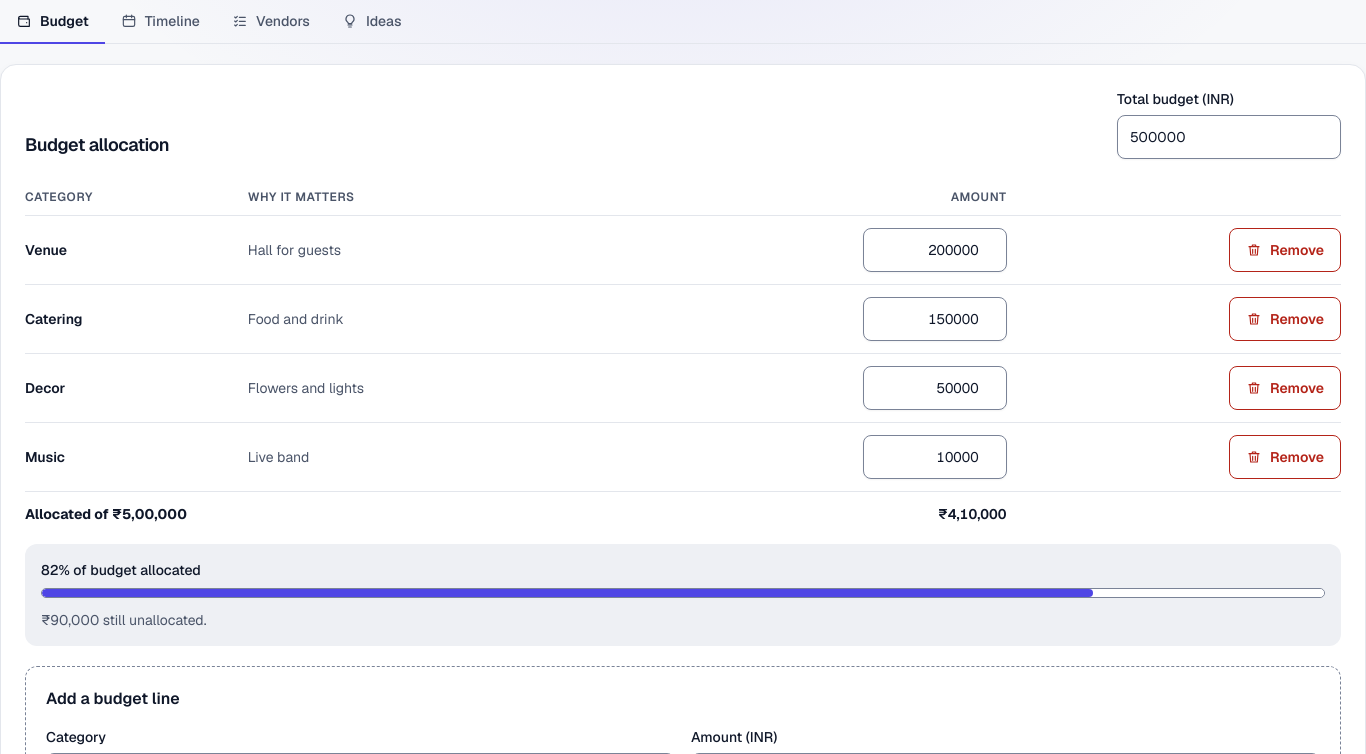
PlanTabs › shows the budget tab first and switches panels
Click the tab "Ideas" at coordinates (372, 22), box [326, 0, 418, 44]
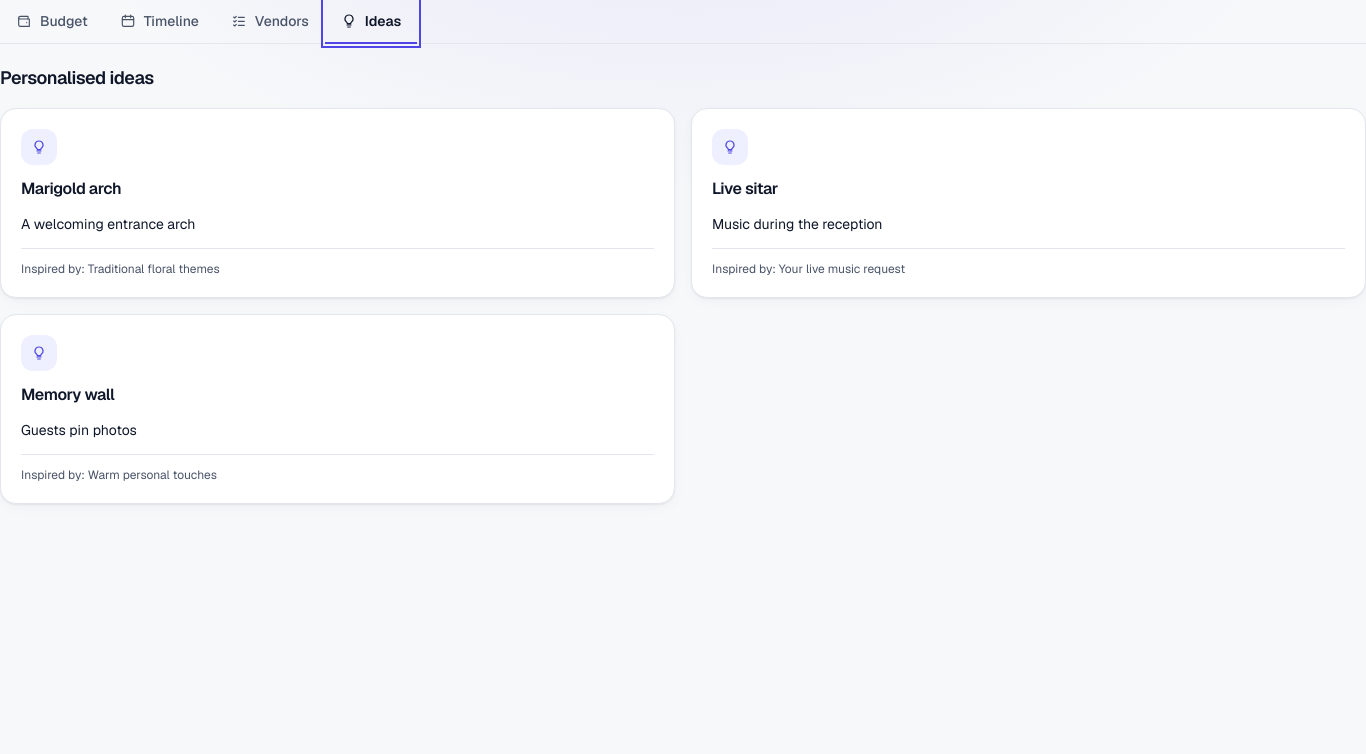
Result: the panel shows "Marigold arch" at [21, 178, 121, 199]
